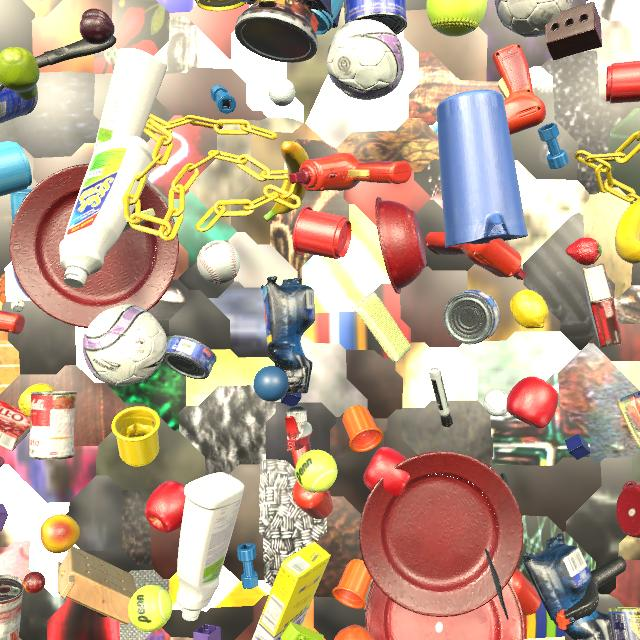ycb_002_master_chef_can: (344, 0, 407, 35), (0, 84, 38, 124)
ycb_004_sugar_box: (251, 542, 331, 640)
ycb_005_tomato_soup_can: (29, 391, 77, 460), (0, 575, 24, 640)
ycb_007_tuna_fish_can: (443, 289, 500, 344), (163, 335, 217, 379)
ycb_008_pudding_box: (582, 263, 623, 347)
ycb_009_gelatin_box: (0, 400, 30, 451)
ycb_010_potted_meat_can: (617, 391, 640, 448), (608, 607, 640, 640)
ycb_011_banana: (263, 141, 309, 222), (615, 198, 640, 264)
ycb_012_strawberry: (566, 237, 602, 265)
ycb_013_apple: (506, 376, 558, 429), (363, 447, 410, 497), (145, 481, 186, 532)
ycb_014_lemon: (510, 289, 548, 329), (18, 383, 55, 417)
ycb_015_peach: (40, 514, 80, 553)
ycb_016_pear: (0, 47, 40, 101)
ycb_017_orange: (334, 625, 375, 640)
ycb_018_plum: (79, 9, 115, 45)
